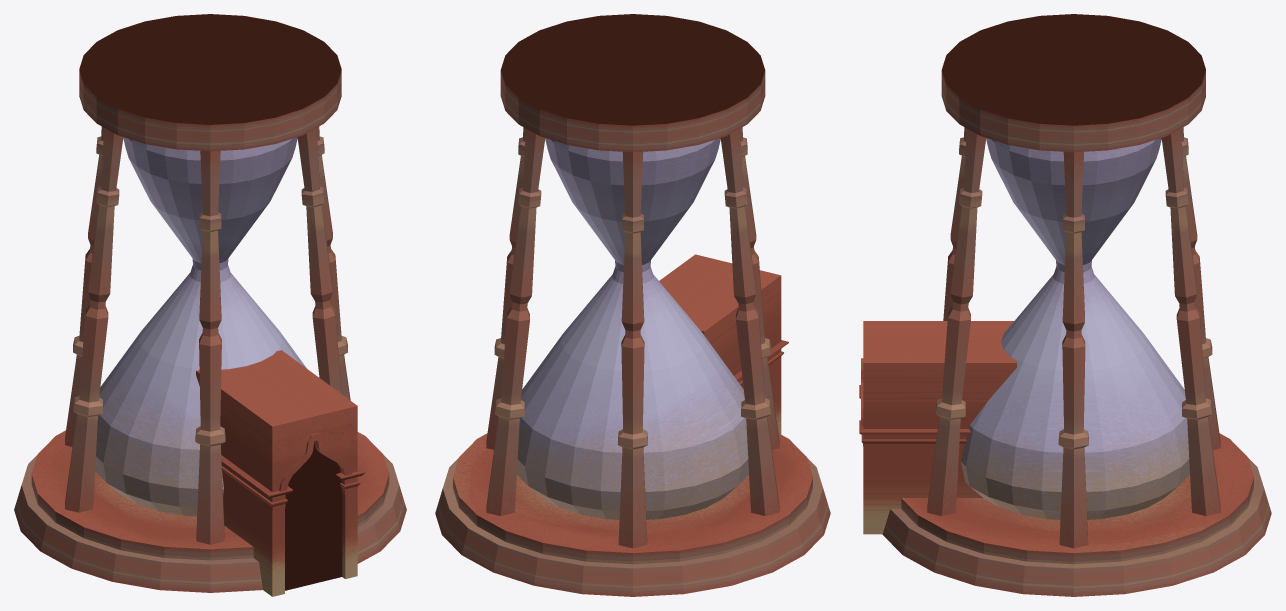
File: Hourglass.fbx
The picture shows the model from 3 angles, left to right: view 1: azimuth 30°, elevation 25°; view 2: azimuth 150°, elevation 25°; view 3: azimuth 270°, elevation 25°; orthographic projection.
Visible parts, largest first — view 1: archway; view 2: archway; view 3: archway.
Boxes of the visible parts, x1,y1,x2,y2 form: archway: (14, 14, 406, 596); archway: (435, 14, 830, 596); archway: (859, 14, 1271, 596).
Bounding box in the file's own units: 555 × 687 × 579.
